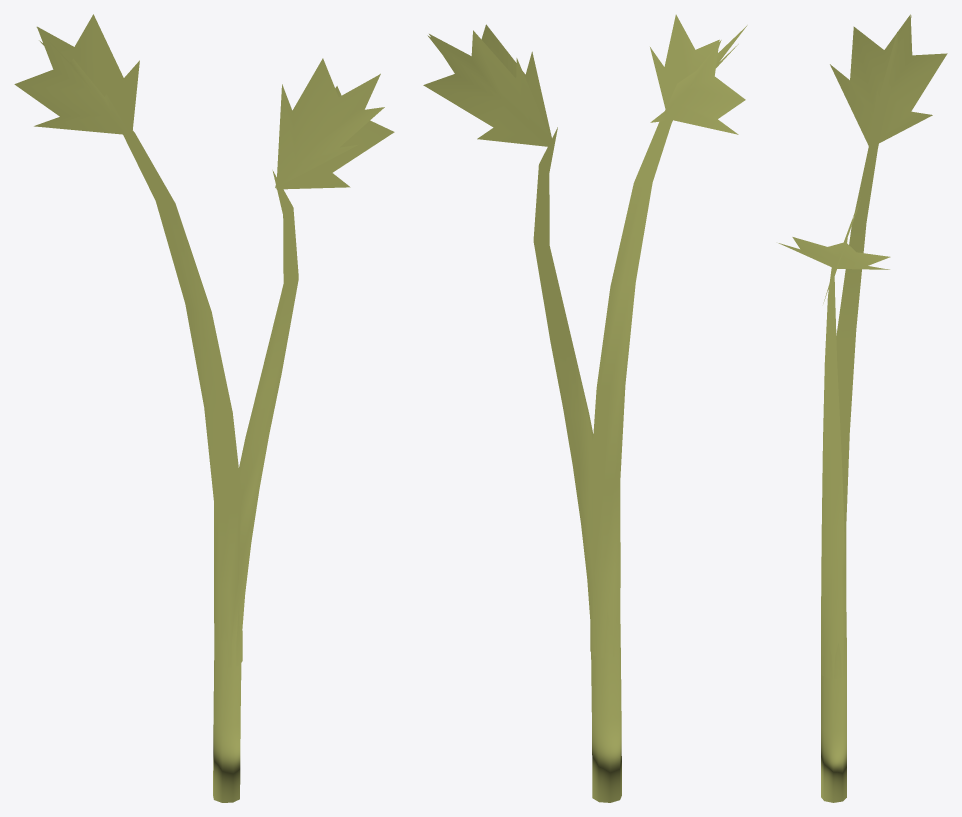
Rendered from PL_carrotStage1_01.fbx.
3 views of the same model, side by side, from view 1: azimuth 30°, elevation 25°; view 2: azimuth 150°, elevation 25°; view 3: azimuth 270°, elevation 25° (orthographic). The views are drawn at different scales.
Parts seen in each view (by area): view 1: PL_carrotStage1_01; view 2: PL_carrotStage1_01; view 3: PL_carrotStage1_01.
Boxes of the visible parts, left/top/right/bottom form: PL_carrotStage1_01: left=14, top=14, right=394, bottom=802; PL_carrotStage1_01: left=423, top=14, right=747, bottom=802; PL_carrotStage1_01: left=778, top=14, right=947, bottom=802.
Size of the model in its own units: 20.3 by 45.05 by 9.69.
1 material, 1 textured.
